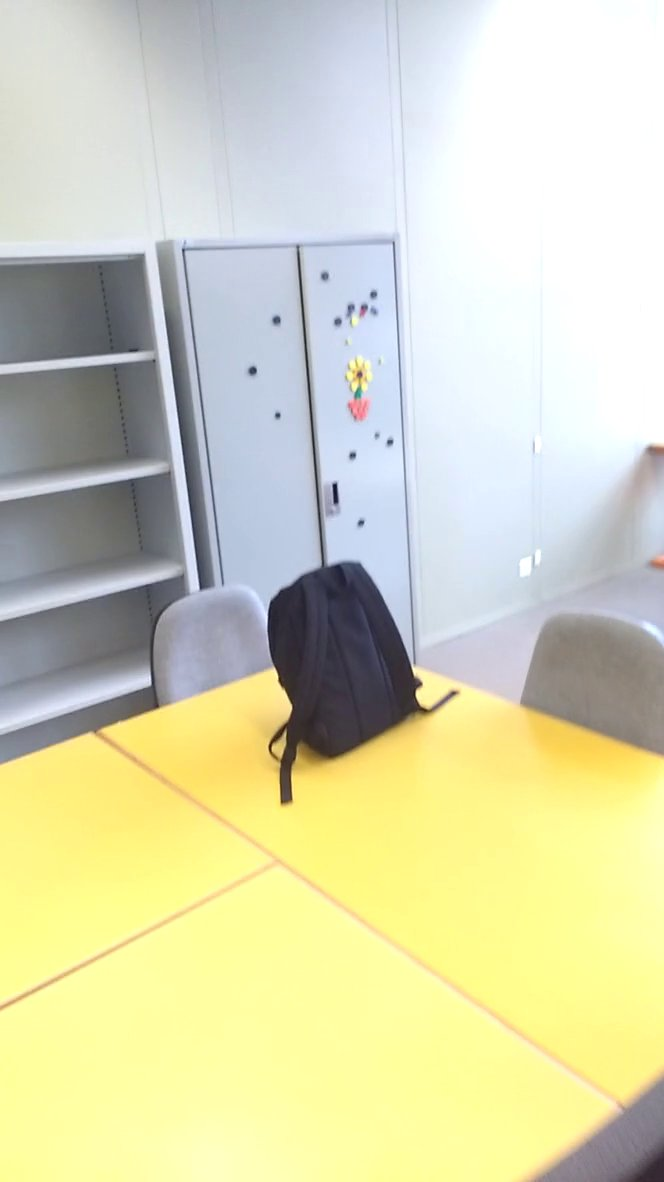bag: (264, 551, 465, 812)
chair: (513, 594, 664, 770), (135, 570, 293, 724)
